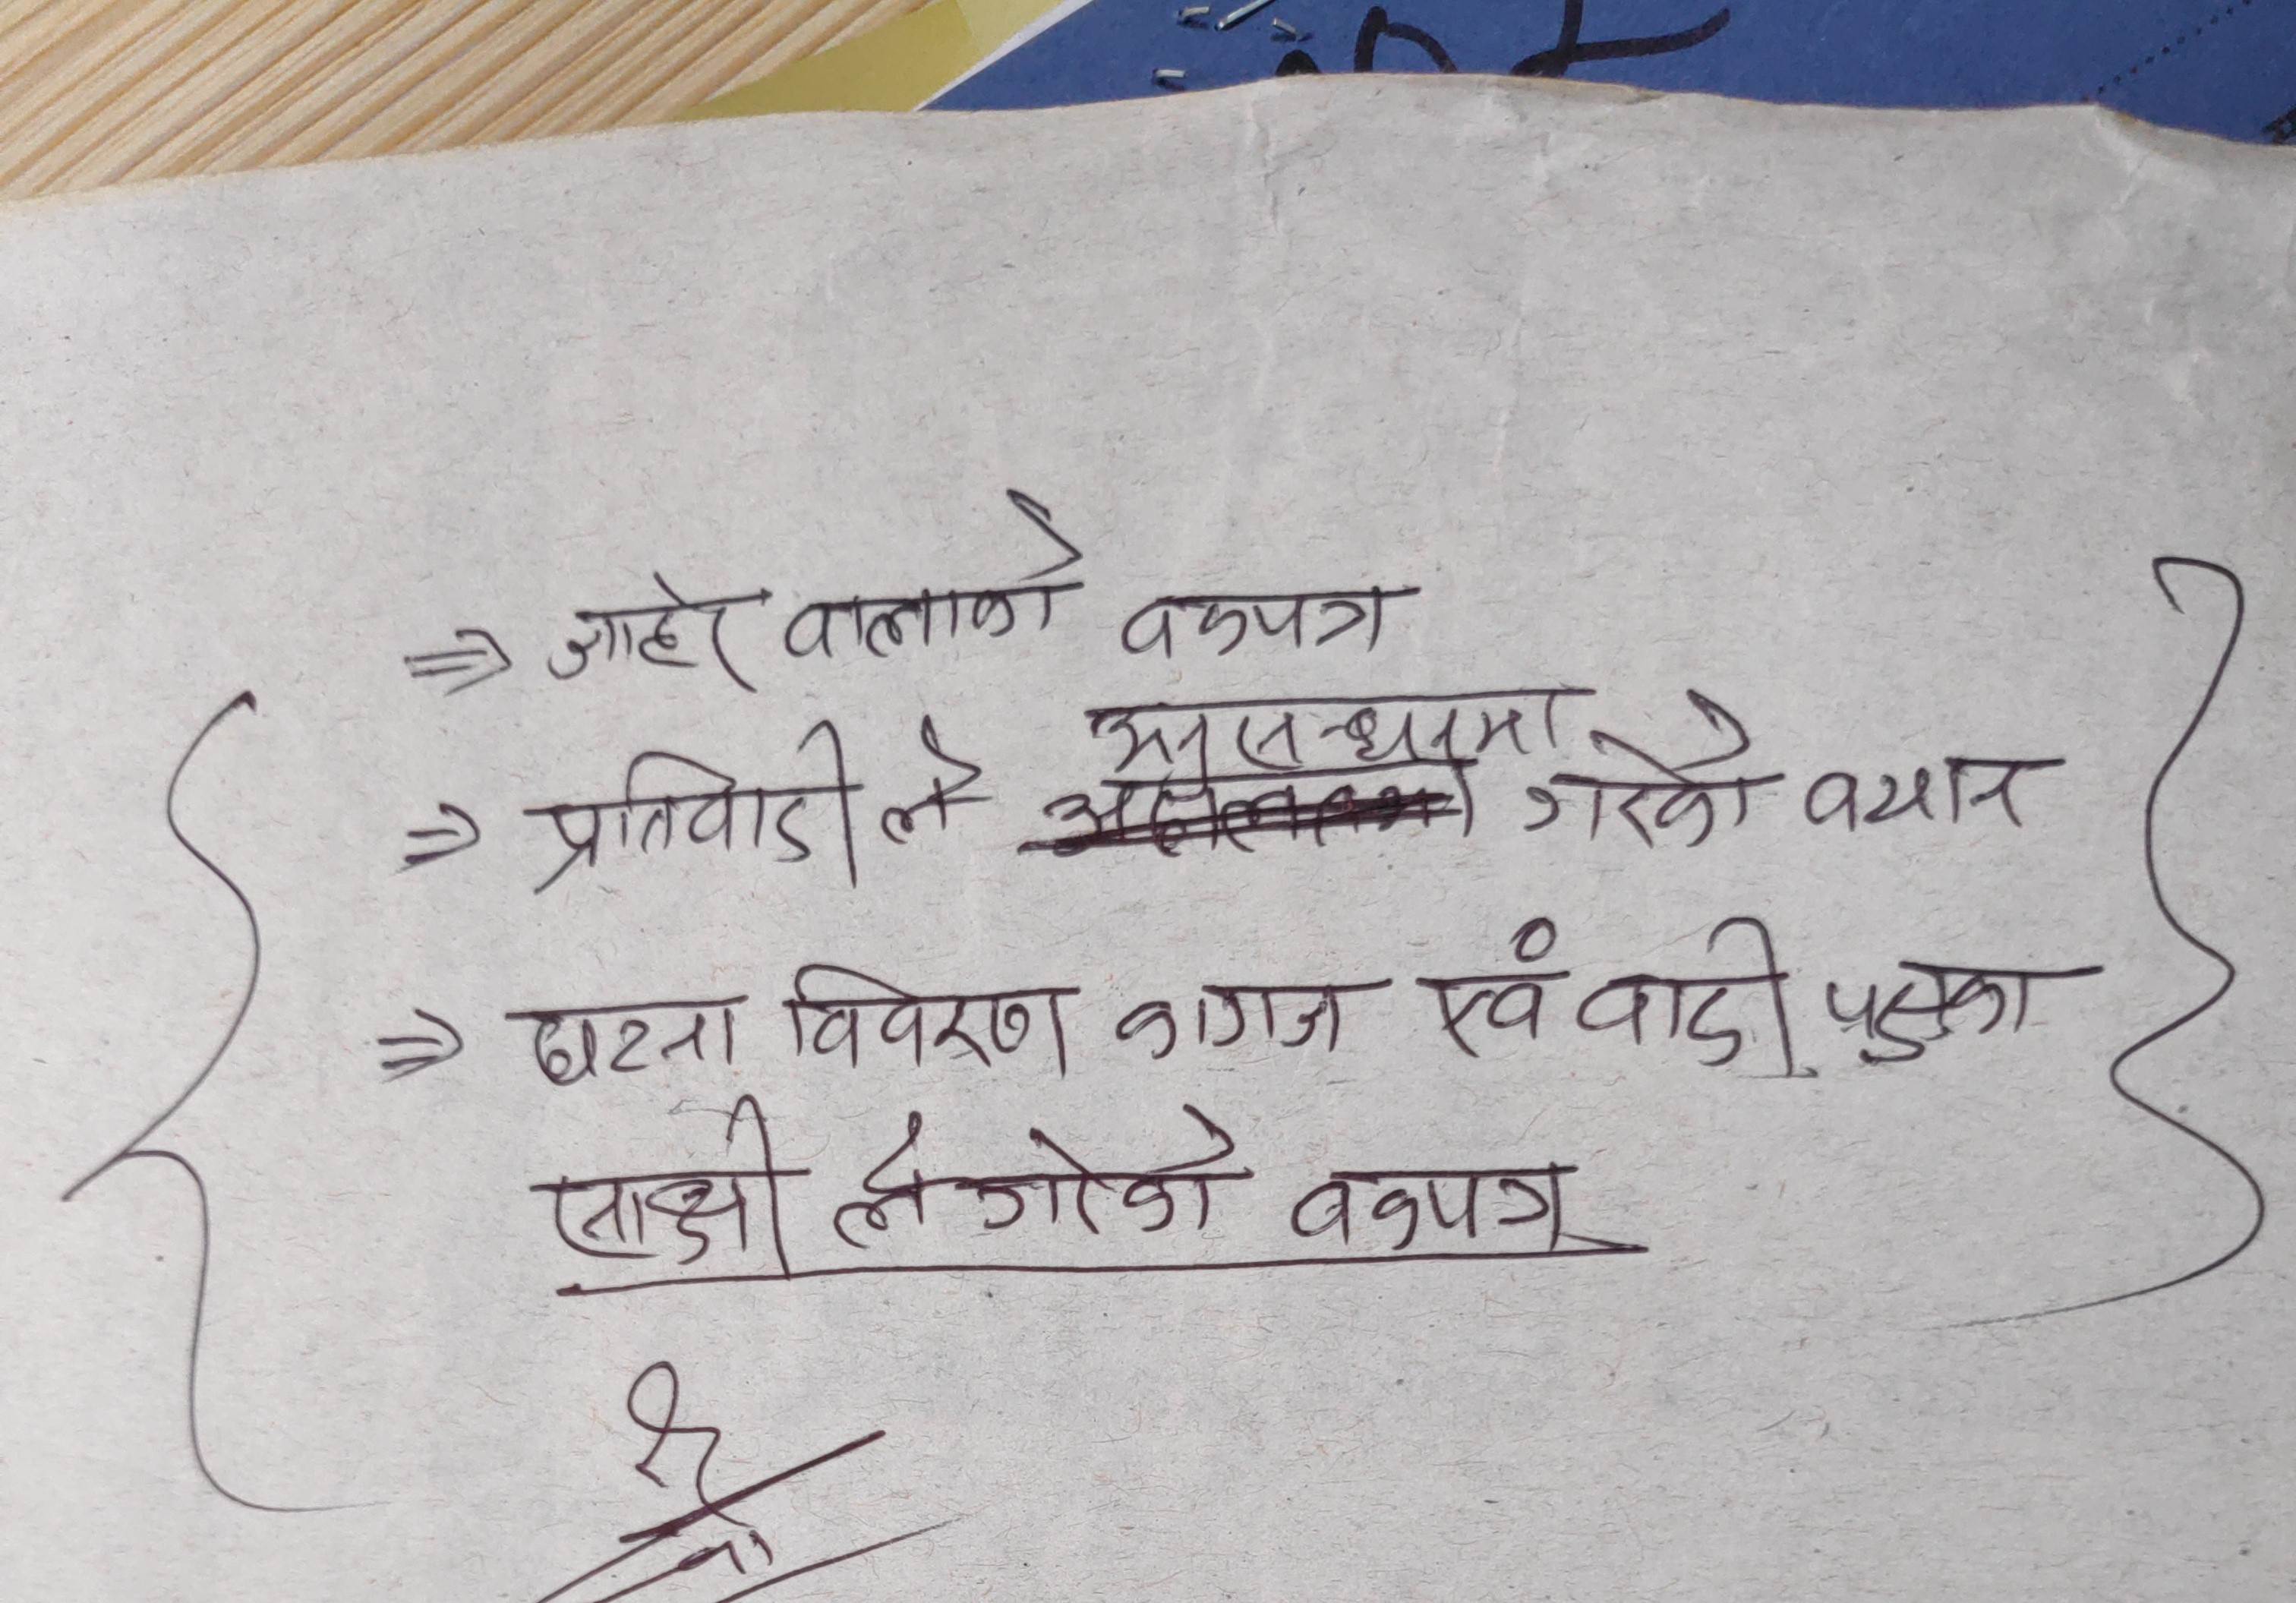text: (823, 1092, 1242, 1249), (534, 713, 860, 911), (778, 478, 1082, 670), (544, 1102, 801, 1273), (1082, 677, 1582, 762), (778, 952, 1078, 1085), (1565, 911, 1799, 1080), (1813, 940, 2055, 1080), (1527, 722, 1771, 851), (1284, 1148, 1588, 1251), (544, 565, 764, 699), (1110, 574, 1399, 663), (516, 984, 750, 1092), (1106, 970, 1352, 1069), (1799, 750, 2047, 846), (1425, 916, 1574, 1062), (874, 703, 981, 851)
